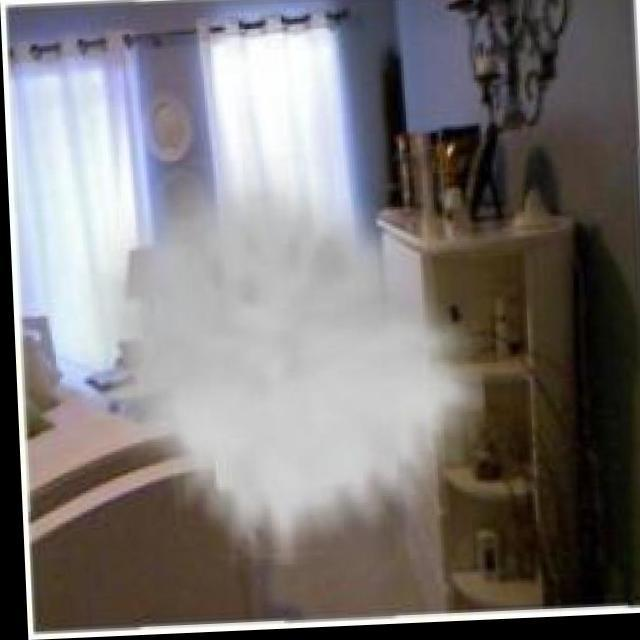Smoke: (93, 168, 494, 558)
